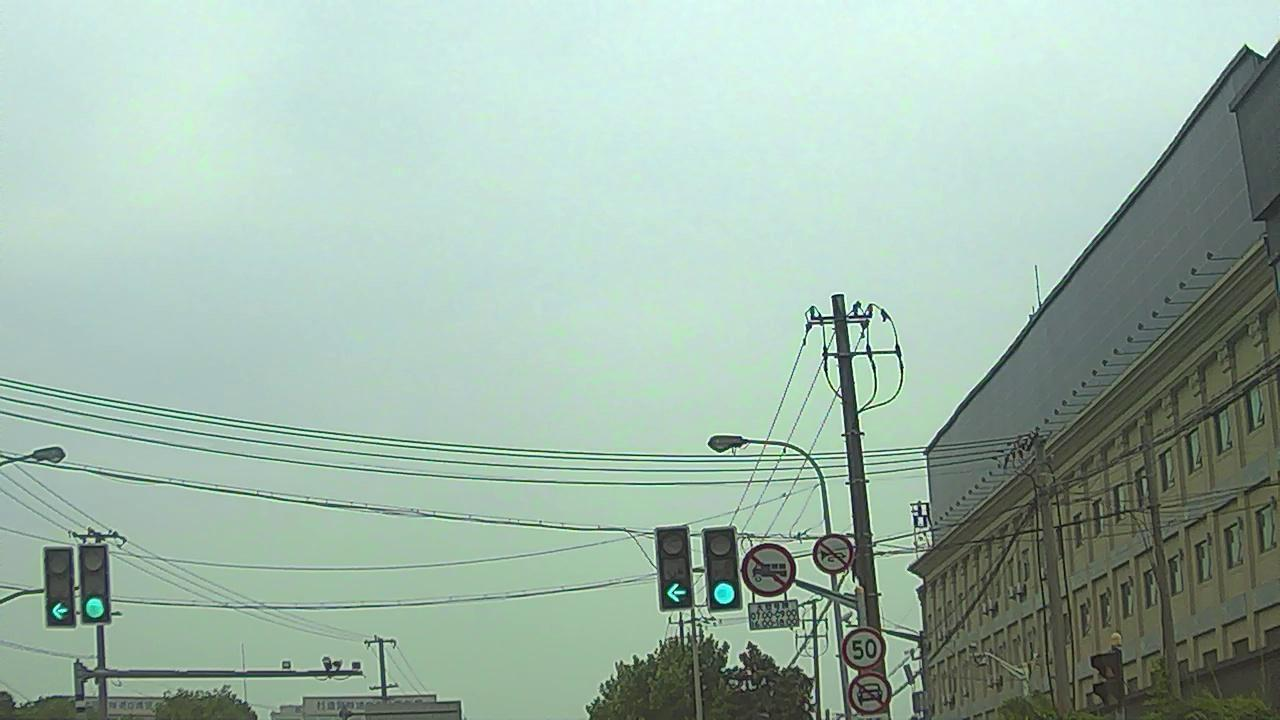traffic_light: (661, 524, 692, 614), (710, 528, 744, 609), (46, 549, 76, 629), (83, 542, 111, 622)
